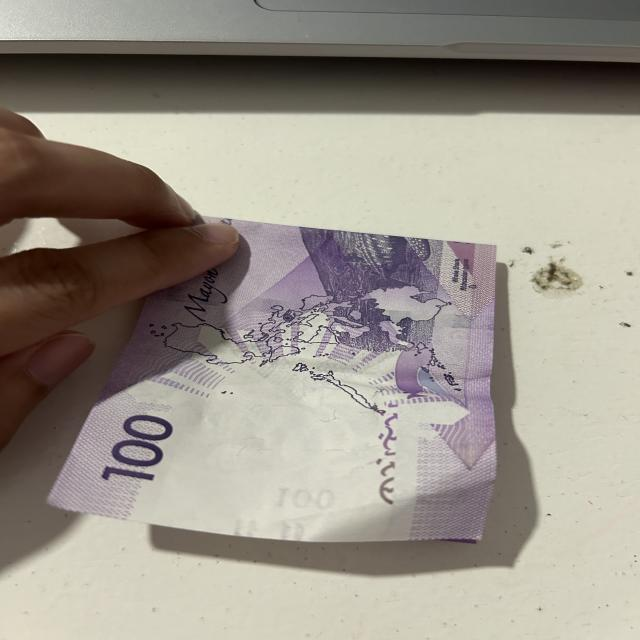100_whale: (338, 231, 430, 291)
100_whale_watermark: (393, 341, 443, 400)
value_watermark: (277, 485, 338, 512)
